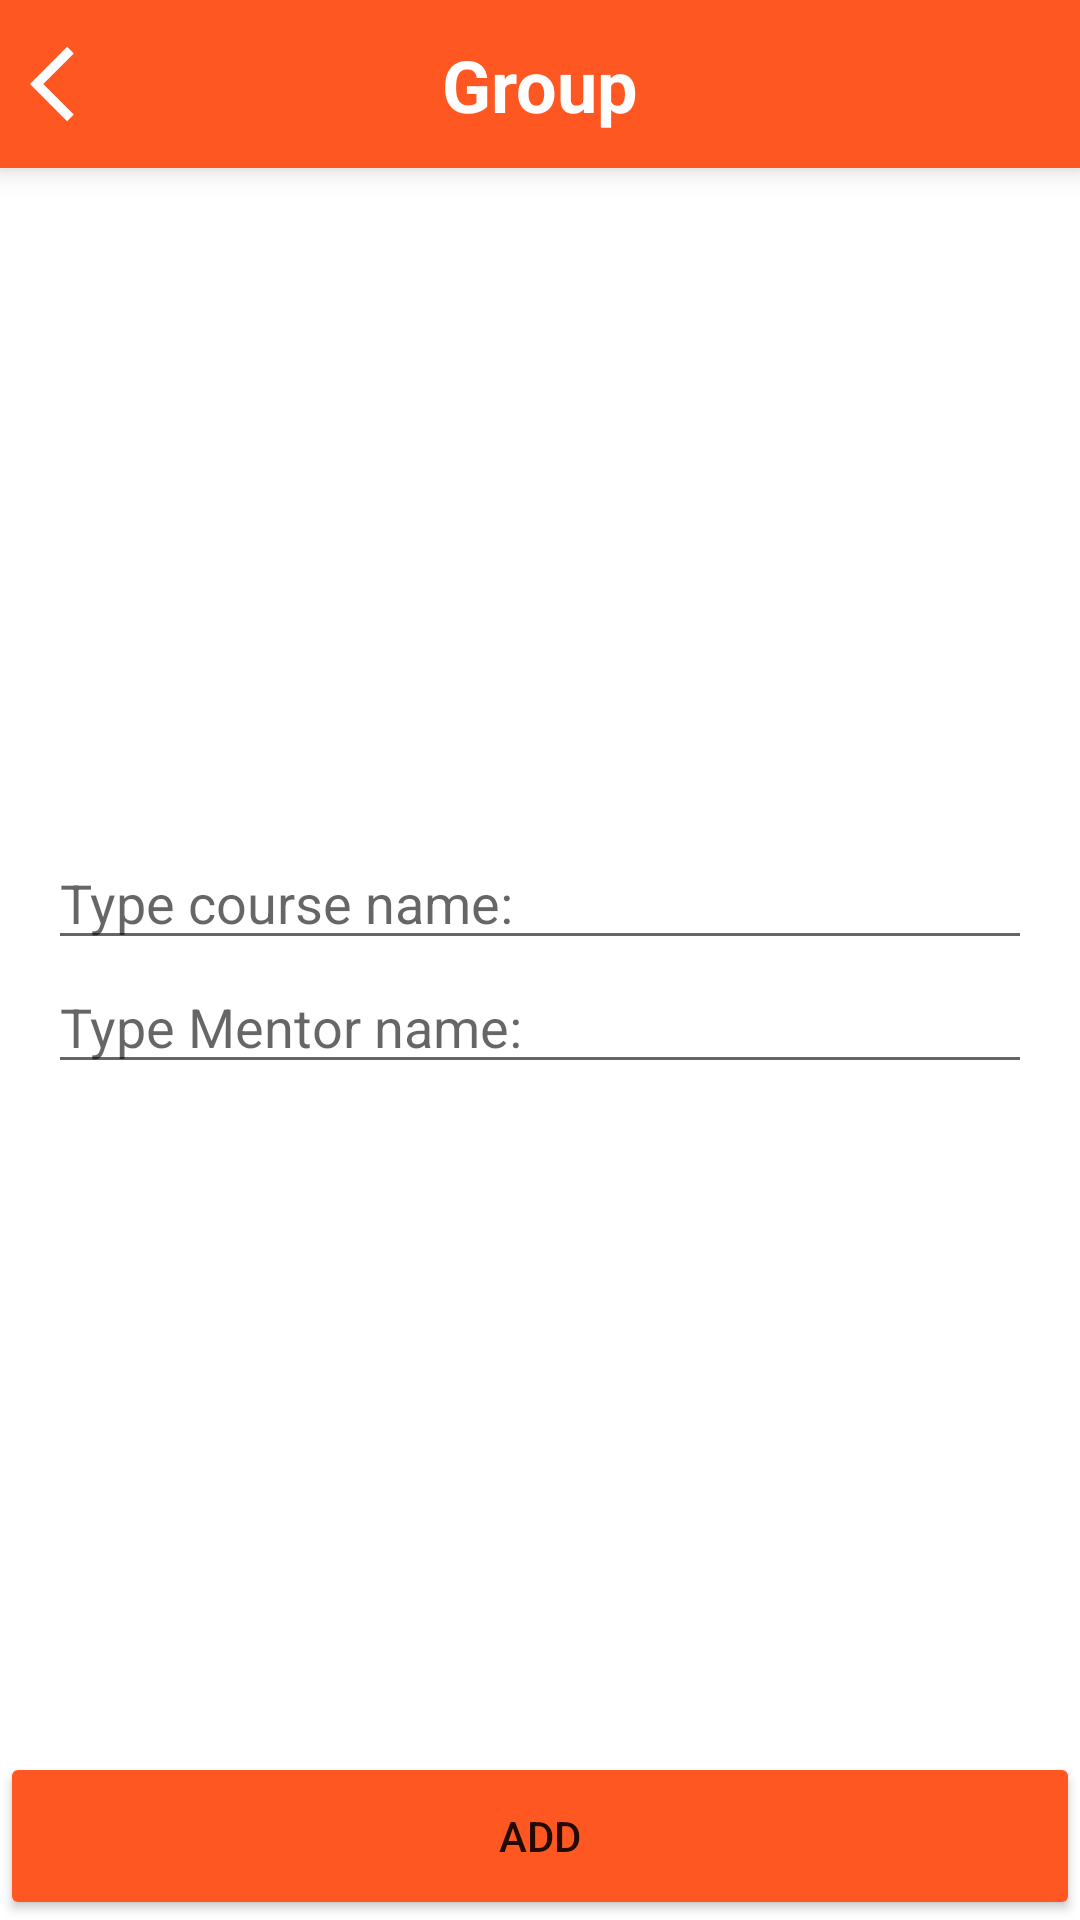

Icon click points for this 1080px×1920px phone screenshot, format [x,y]:
arrow back: [52,84]
